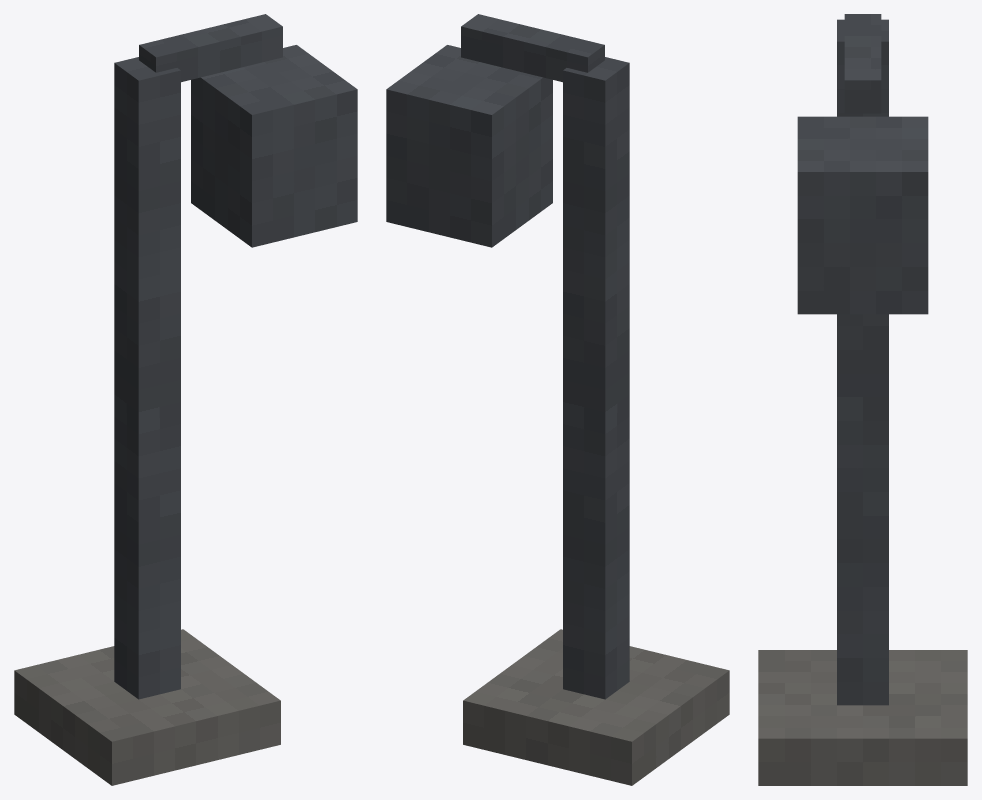
File: lanterne.glb
3 renders of one model, left to right at view 1: azimuth 30°, elevation 25°; view 2: azimuth 150°, elevation 25°; view 3: azimuth 270°, elevation 25°, orthographic. The views are drawn at different scales.
Parts seen in each view (by area): view 1: Lanterne; view 2: Lanterne; view 3: Lanterne.
Part boxes in pixels (left/top/right/bottom): Lanterne: left=14, top=14, right=357, bottom=785; Lanterne: left=386, top=14, right=729, bottom=785; Lanterne: left=758, top=14, right=967, bottom=785.
Size of the model in its own units: 0.625 by 1.53 by 0.4.
Materials: 3 (3 with a texture image).
